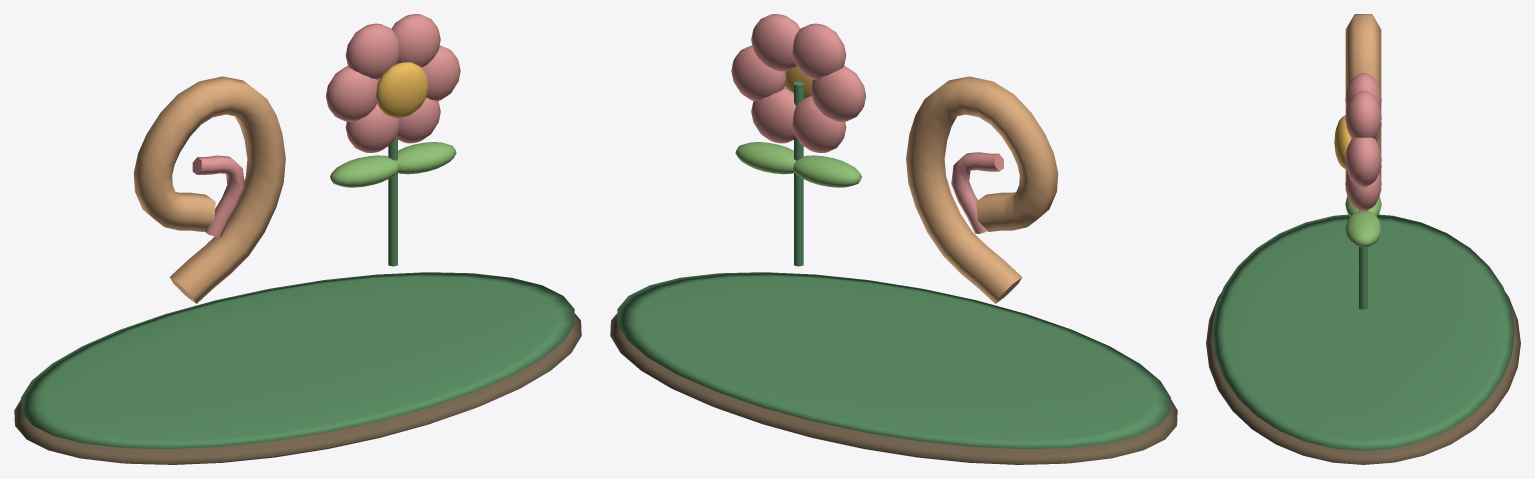
The model's file is ear-blossom.glb.
3 renders of one model, left to right at view 1: azimuth 30°, elevation 25°; view 2: azimuth 150°, elevation 25°; view 3: azimuth 270°, elevation 25°, orthographic. The views are drawn at different scales.
Visible parts, largest first — view 1: ear-blossom_surface_01, ear-blossom_surface_02, ear-blossom_surface_03, ear-blossom_surface_00, ear-blossom_surface_04, ear-blossom_surface_05; view 2: ear-blossom_surface_01, ear-blossom_surface_02, ear-blossom_surface_03, ear-blossom_surface_00, ear-blossom_surface_04; view 3: ear-blossom_surface_01, ear-blossom_surface_00, ear-blossom_surface_03, ear-blossom_surface_02, ear-blossom_surface_04, ear-blossom_surface_05.
Part boxes in pixels (bbox=[...]): ear-blossom_surface_01: bbox=[21, 137, 574, 449]; ear-blossom_surface_02: bbox=[133, 76, 285, 303]; ear-blossom_surface_03: bbox=[192, 14, 460, 237]; ear-blossom_surface_00: bbox=[14, 313, 581, 464]; ear-blossom_surface_04: bbox=[330, 142, 456, 187]; ear-blossom_surface_05: bbox=[376, 62, 428, 118]; ear-blossom_surface_01: bbox=[617, 81, 1170, 449]; ear-blossom_surface_02: bbox=[906, 76, 1058, 303]; ear-blossom_surface_03: bbox=[731, 14, 1003, 233]; ear-blossom_surface_00: bbox=[610, 313, 1177, 464]; ear-blossom_surface_04: bbox=[735, 142, 861, 187]; ear-blossom_surface_01: bbox=[1212, 210, 1514, 450]; ear-blossom_surface_00: bbox=[1206, 292, 1520, 464]; ear-blossom_surface_03: bbox=[1345, 73, 1381, 211]; ear-blossom_surface_02: bbox=[1345, 14, 1381, 190]; ear-blossom_surface_04: bbox=[1345, 196, 1381, 247]; ear-blossom_surface_05: bbox=[1334, 115, 1351, 169].
Bounding box in the file's own units: 4.56 × 2.77 × 2.5.
